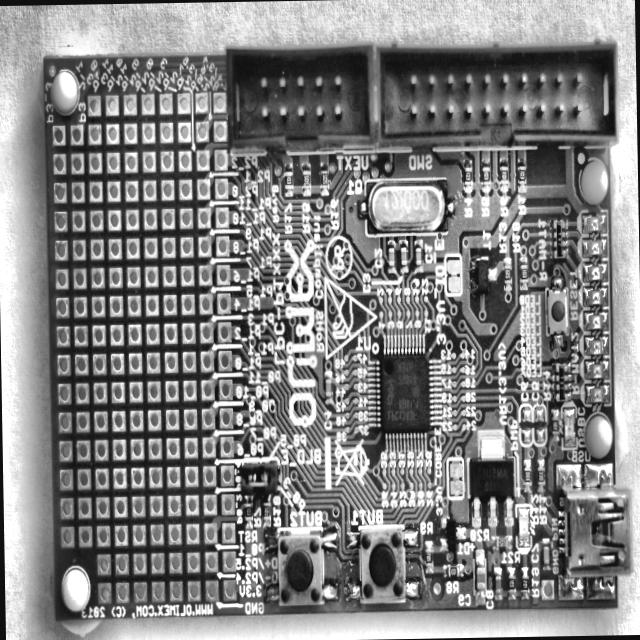PCB: (47, 44, 632, 616)
